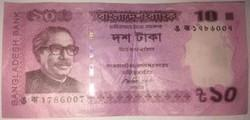10 taka: (4, 2, 250, 112)
